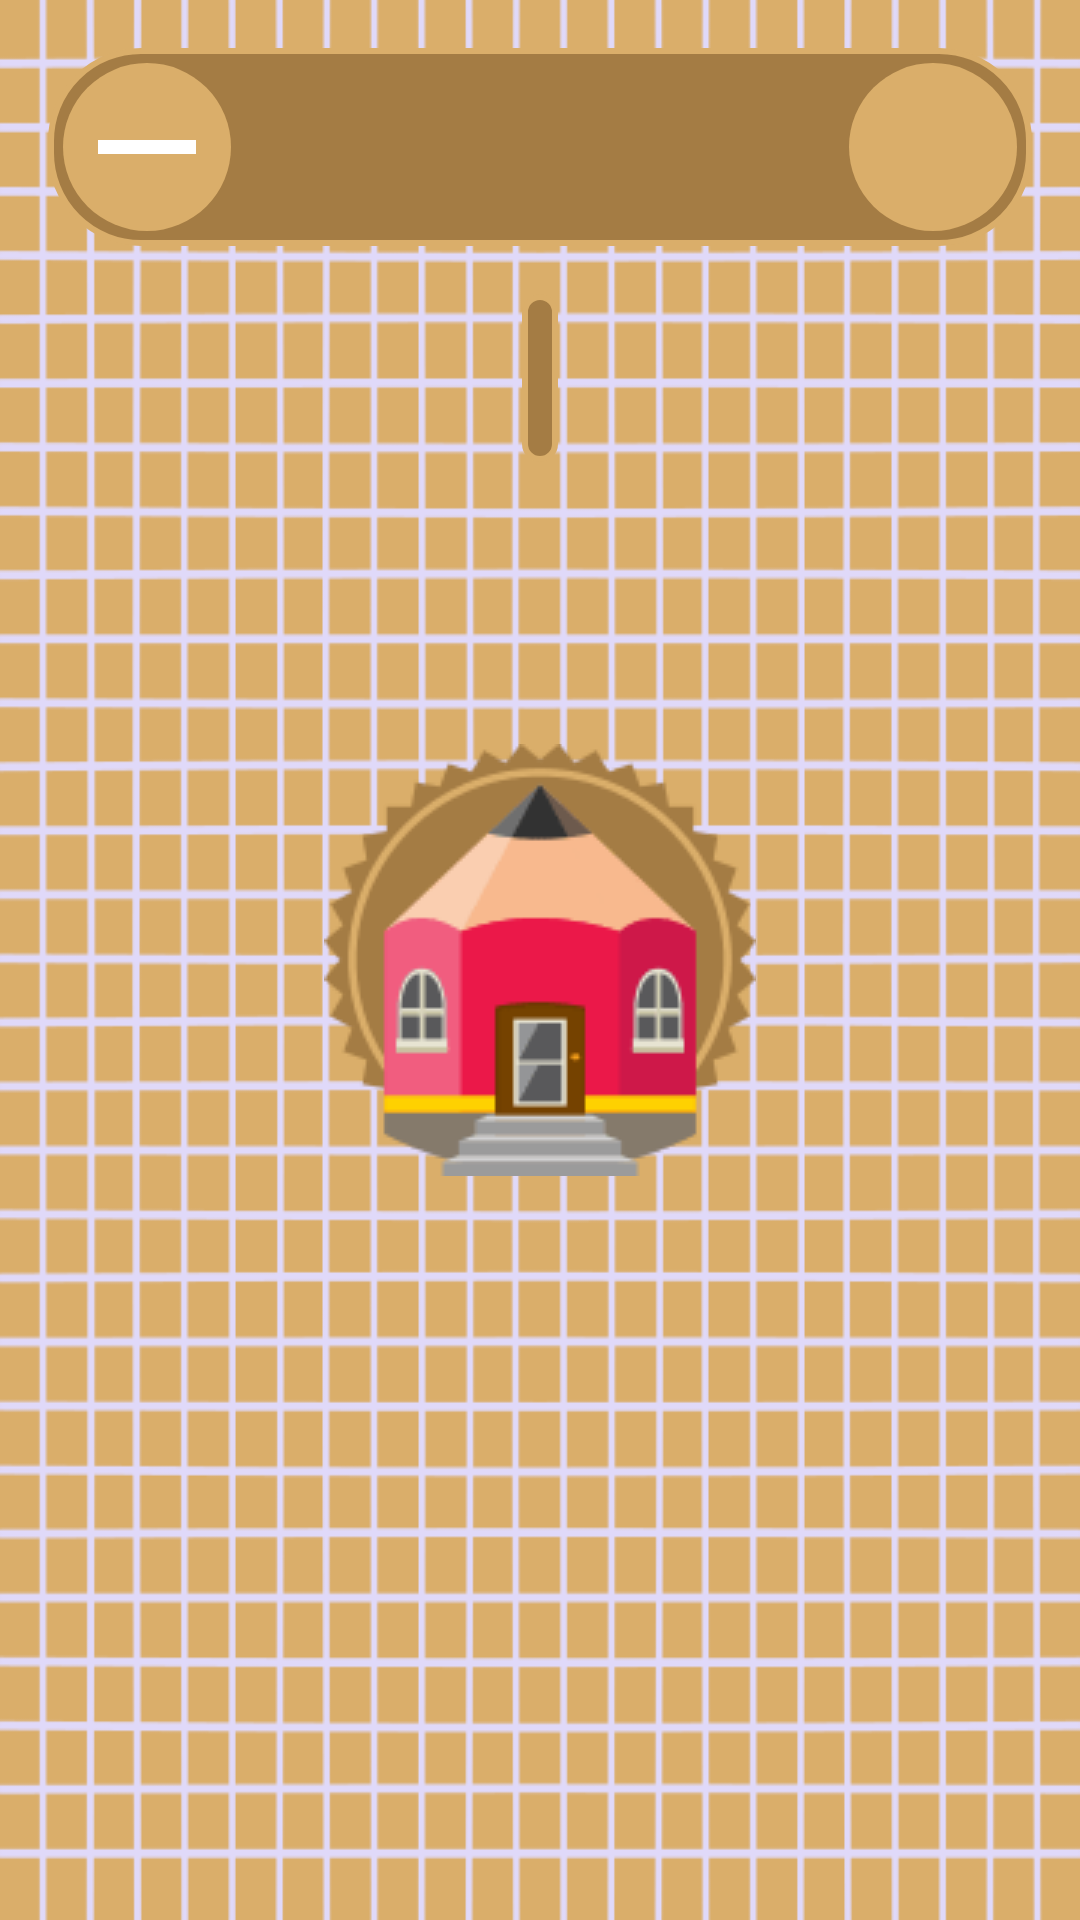

Point at icon controls on the screen. Image size 1080×1920, points as point (x, y).
remove: point (147, 147)
